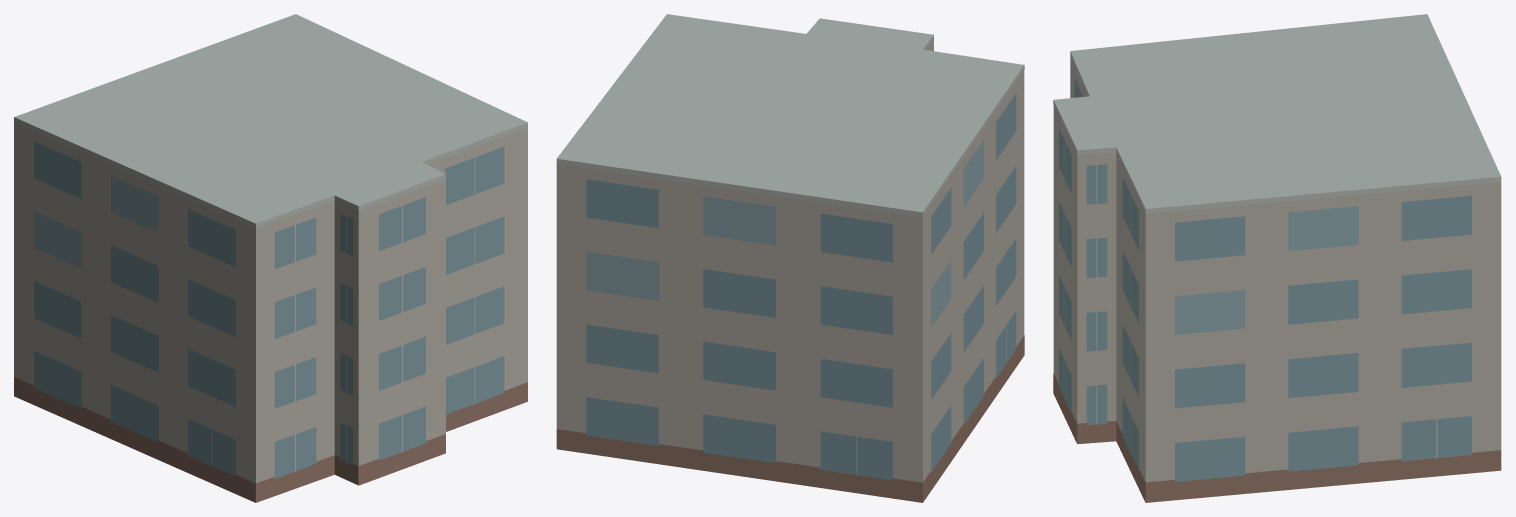
File: survey-upis-33035516.glb
The picture shows the model from 3 angles, left to right: view 1: azimuth 30°, elevation 25°; view 2: azimuth 150°, elevation 25°; view 3: azimuth 270°, elevation 25°; orthographic projection. The views are drawn at different scales.
Visible parts, largest first — view 1: survey-upis-33035516.tmp; view 2: survey-upis-33035516.tmp; view 3: survey-upis-33035516.tmp.
Boxes of the visible parts, box(x1,y1,x2,y2) form: survey-upis-33035516.tmp: box(14, 14, 527, 502); survey-upis-33035516.tmp: box(556, 14, 1024, 502); survey-upis-33035516.tmp: box(1053, 14, 1501, 502).
Bounding box in the file's own units: 20.37 × 14.3 × 19.76.
